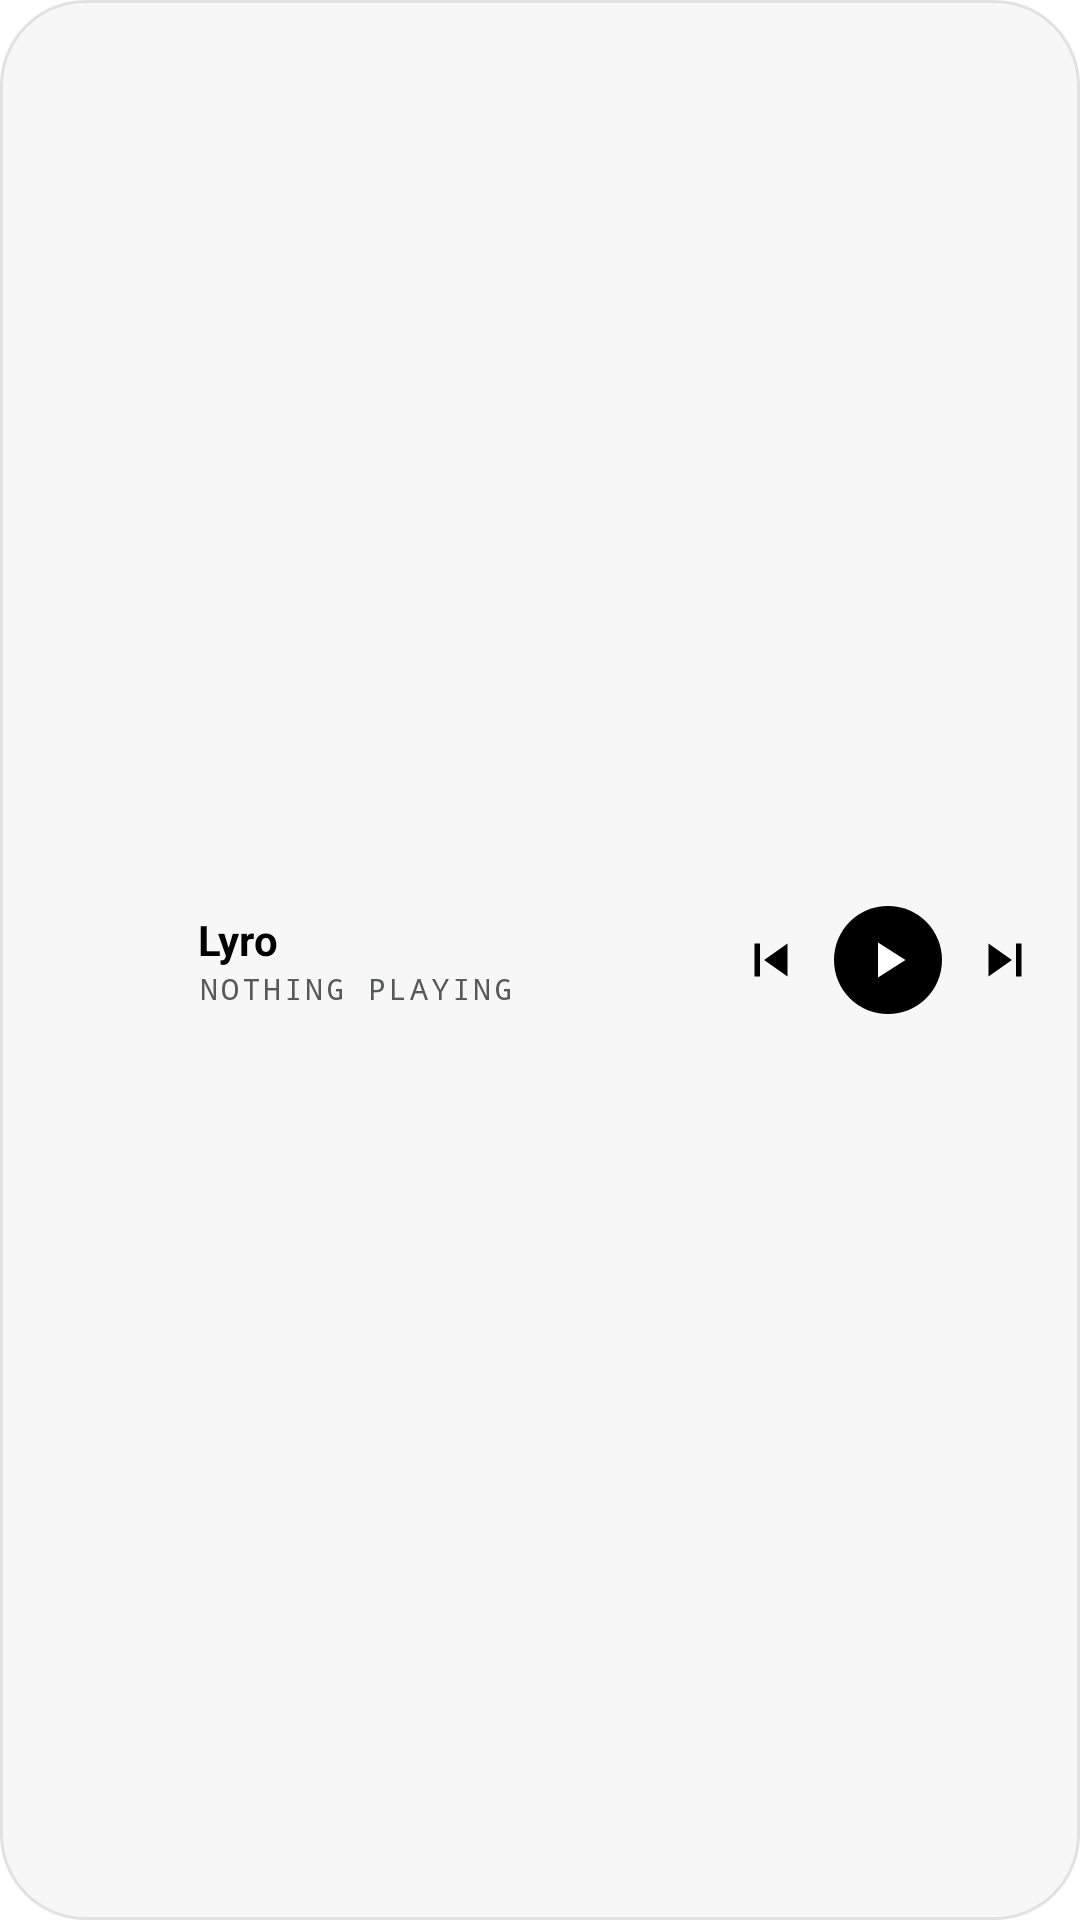

Screen size 1080x1920. Icon name, then its center in pixels as (x=x, y=y):
Next: (x=1005, y=960)
Previous: (x=771, y=960)
